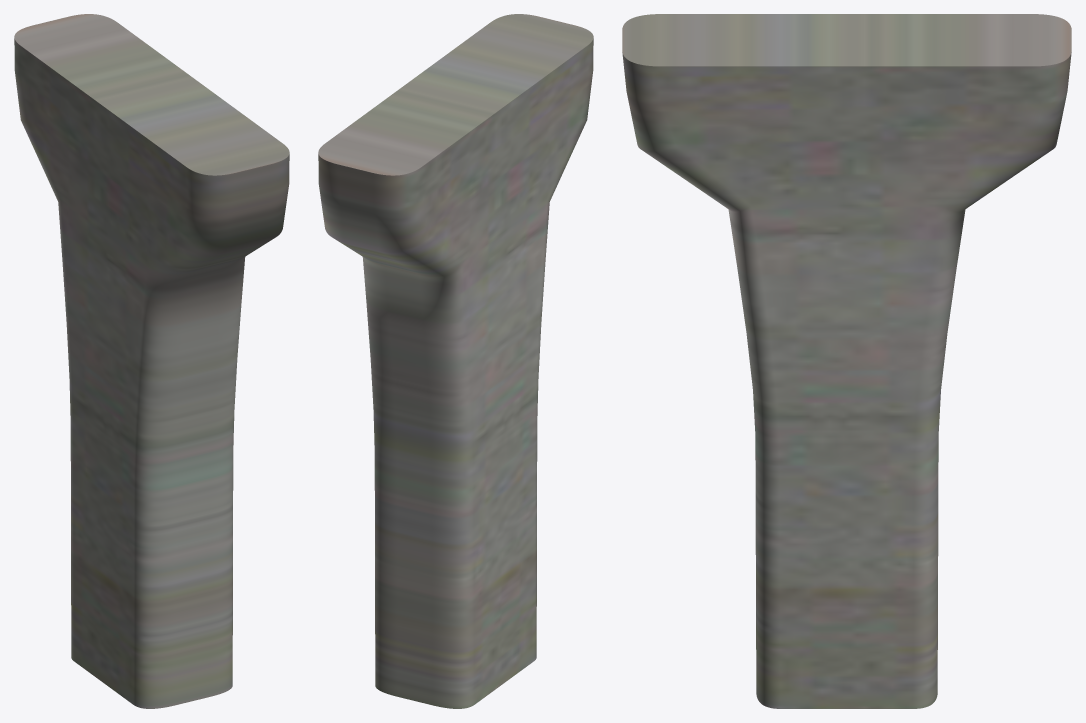
Rendered from bridge.glb.
3 views of the same model, side by side, from view 1: azimuth 30°, elevation 25°; view 2: azimuth 150°, elevation 25°; view 3: azimuth 270°, elevation 25° (orthographic). The views are drawn at different scales.
Bounding box in the file's own units: 1197 × 6838 × 4337.
1 material, 1 textured.
